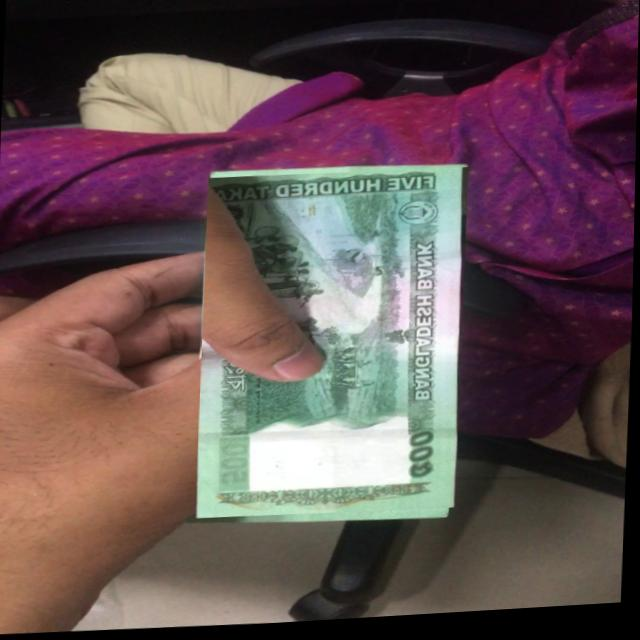Taka: (197, 168, 469, 525)
